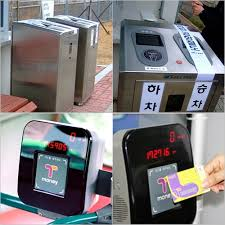terminal: (15, 117, 103, 220)
